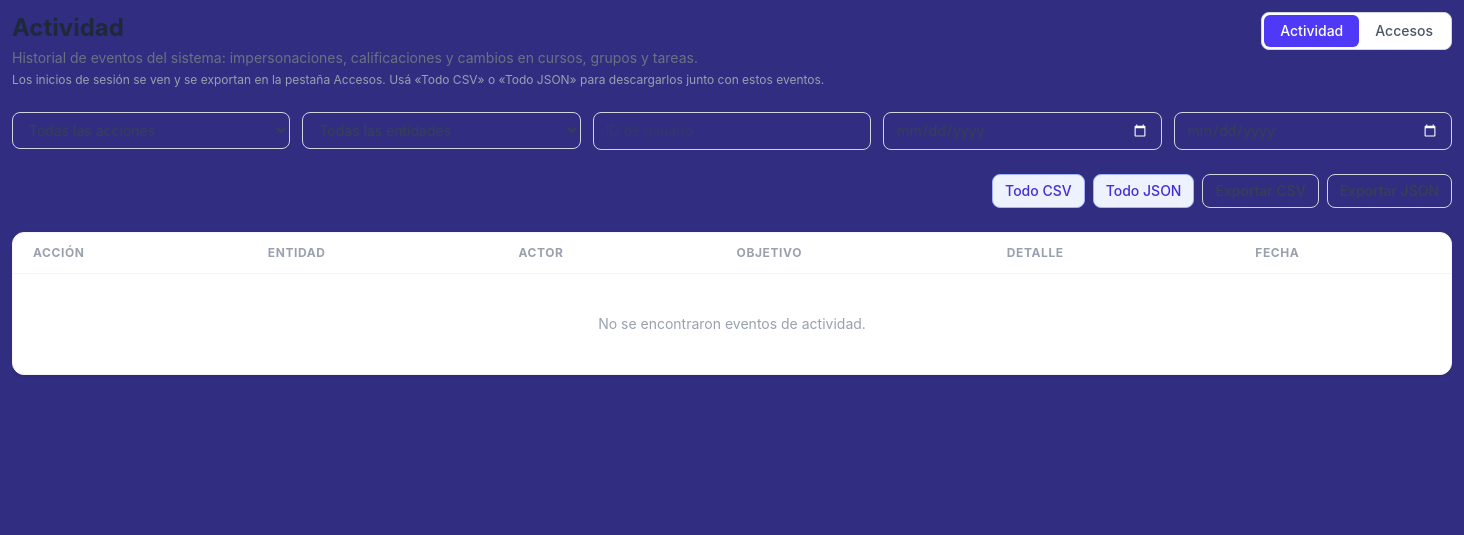
AdminActivityPage › muestra estado de carga mientras se obtienen las metricas
Step 1. Click the button "Accesos" → (1404, 31), box [1359,15,1449,47]
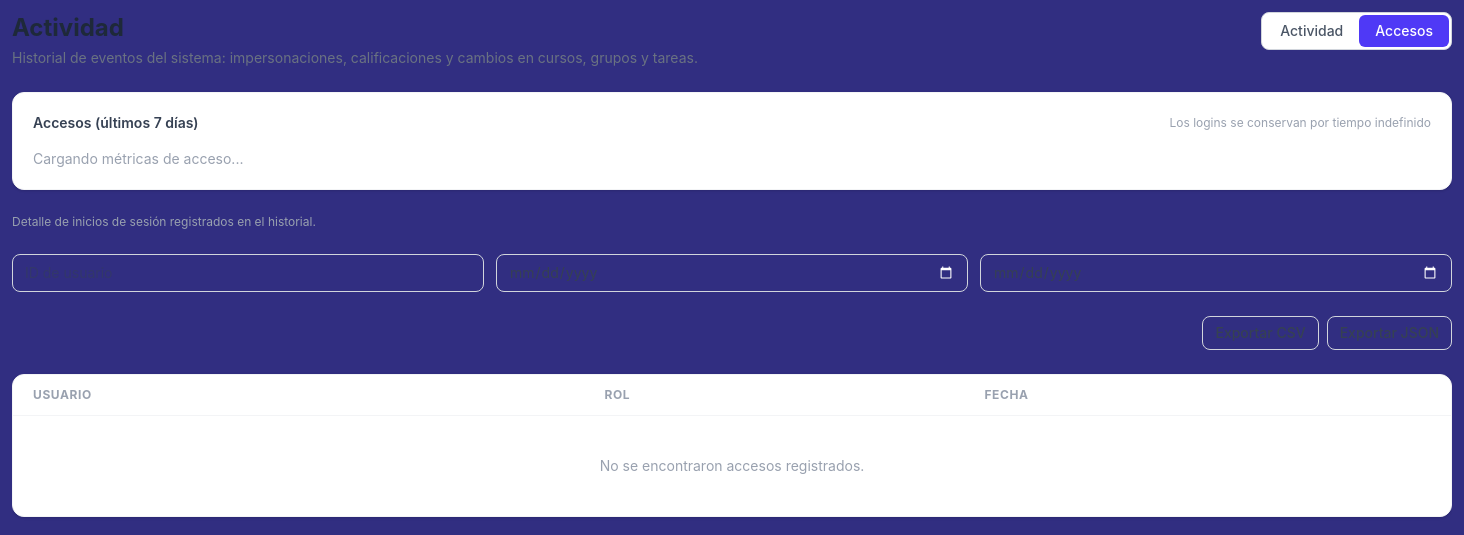
Expected: the text "Cargando métricas de acceso..." is shown, [33,150,244,167]
